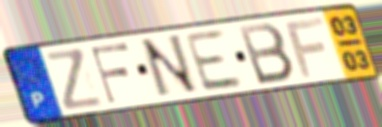B: (236, 21, 297, 87)
E: (180, 28, 246, 94)
F: (88, 40, 133, 106), (283, 15, 327, 80)
N: (137, 32, 203, 101)
Z: (43, 46, 107, 113)
